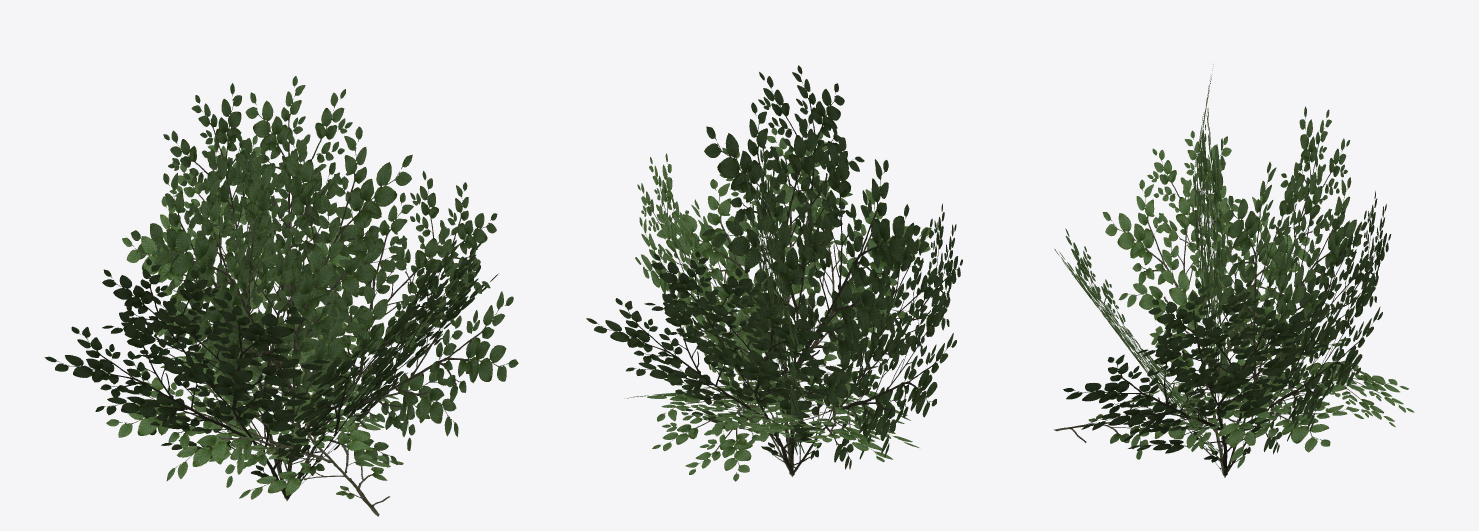
File: Sun_0016_Low_level_shrub.fbx
3 views of the same model, side by side, from view 1: azimuth 30°, elevation 25°; view 2: azimuth 150°, elevation 25°; view 3: azimuth 270°, elevation 25° (orthographic). The views are drawn at different scales.
Parts seen in each view (by area): view 1: Sun_0016_Low_level_shrub; view 2: Sun_0016_Low_level_shrub; view 3: Sun_0016_Low_level_shrub.
Part boxes in pixels (bbox=[...]): Sun_0016_Low_level_shrub: bbox=[44, 76, 518, 516]; Sun_0016_Low_level_shrub: bbox=[586, 65, 962, 481]; Sun_0016_Low_level_shrub: bbox=[1053, 64, 1414, 477].
Bounding box in the file's own units: 41.94 × 47.18 × 41.84.
